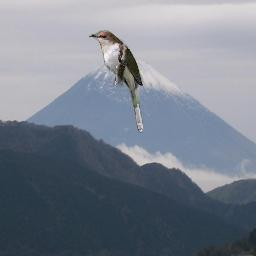Cuckoo: (88, 30, 143, 133)
